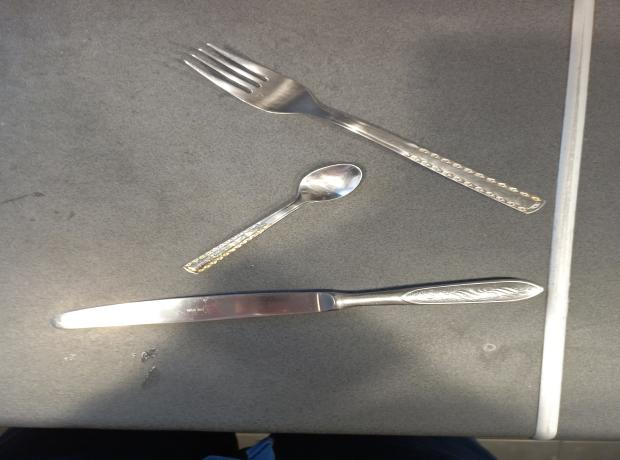metal: (184, 41, 545, 213), (45, 277, 545, 331), (181, 162, 363, 276)
